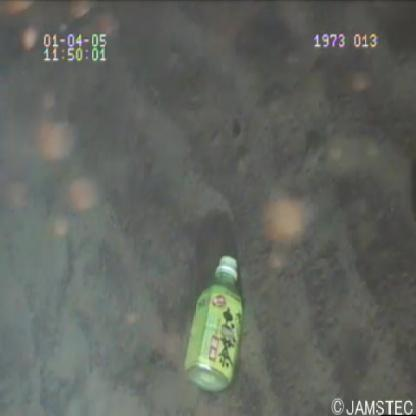Rác: (183, 248, 249, 398)
